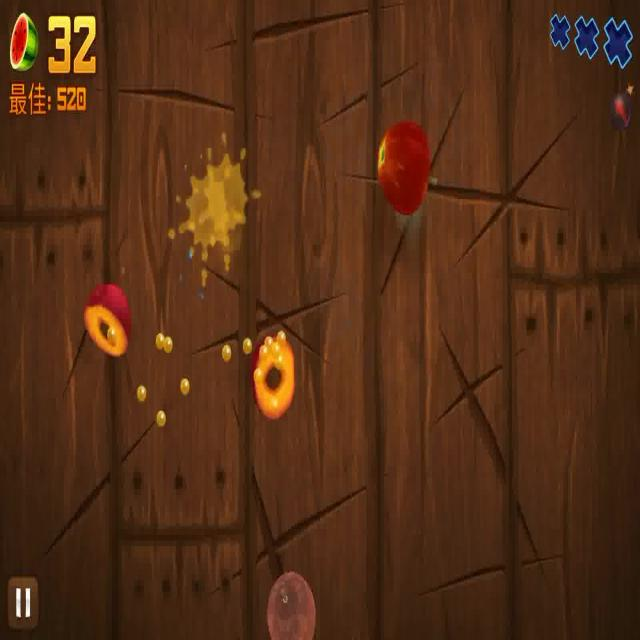fruit: (376, 117, 432, 213), (247, 331, 300, 419), (262, 567, 320, 640), (82, 282, 134, 354)
